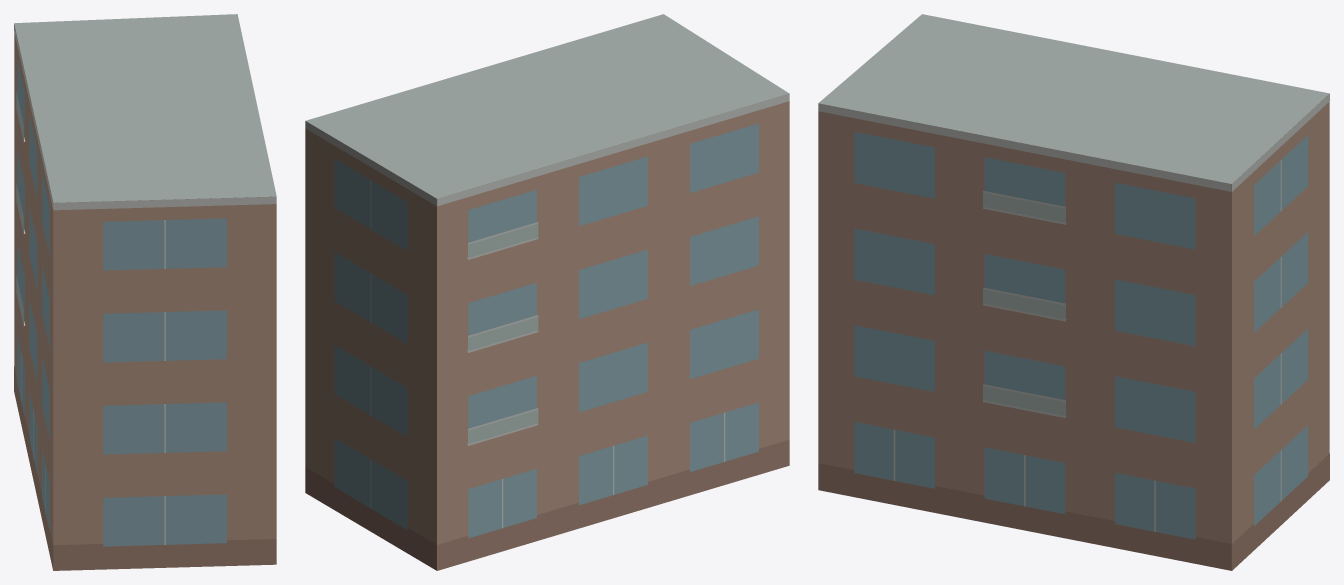
File: survey-upis-32733052.glb
3 views of the same model, side by side, from view 1: azimuth 30°, elevation 25°; view 2: azimuth 150°, elevation 25°; view 3: azimuth 270°, elevation 25° (orthographic). The views are drawn at different scales.
Visible parts, largest first — view 1: survey-upis-32733052.tmp; view 2: survey-upis-32733052.tmp; view 3: survey-upis-32733052.tmp.
Boxes of the visible parts, x1,y1,x2,y2 form: survey-upis-32733052.tmp: (14, 14, 276, 570); survey-upis-32733052.tmp: (305, 14, 789, 570); survey-upis-32733052.tmp: (818, 14, 1329, 570).
Bounding box in the file's own units: 11.33 × 12 × 14.39.
